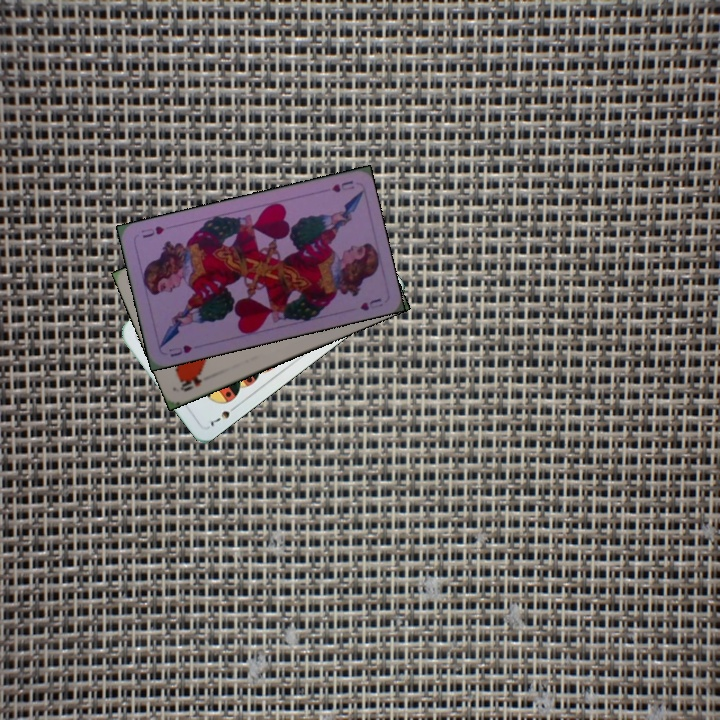HO: (177, 370, 205, 394)
HU: (165, 341, 195, 360), (328, 176, 357, 195)
S7: (206, 401, 240, 430)
